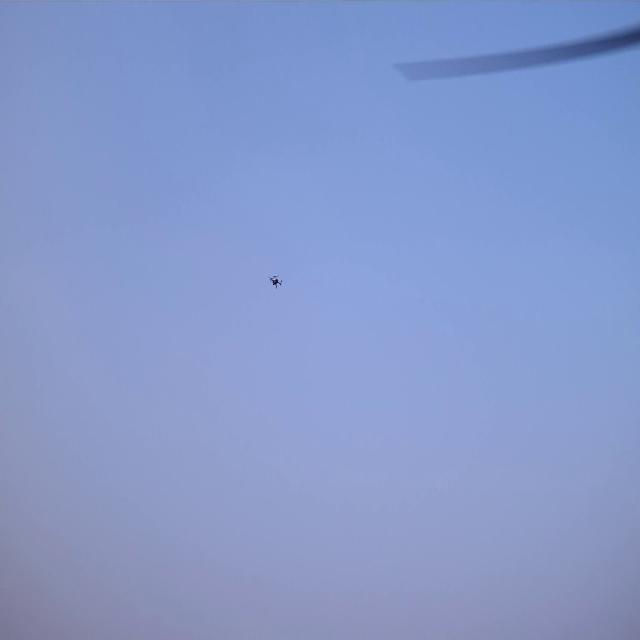UAV: (270, 276, 281, 288)
